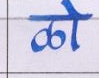o_matra: (69, 1, 81, 50)
